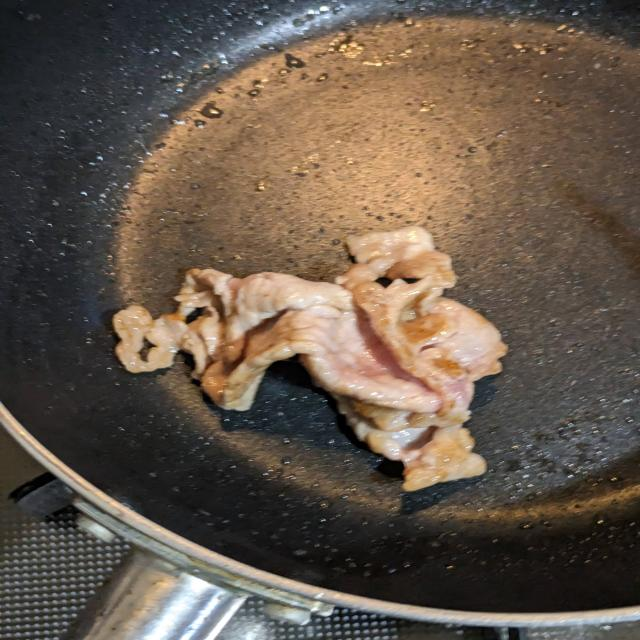NG undercooked pork,: (106, 217, 527, 503)
